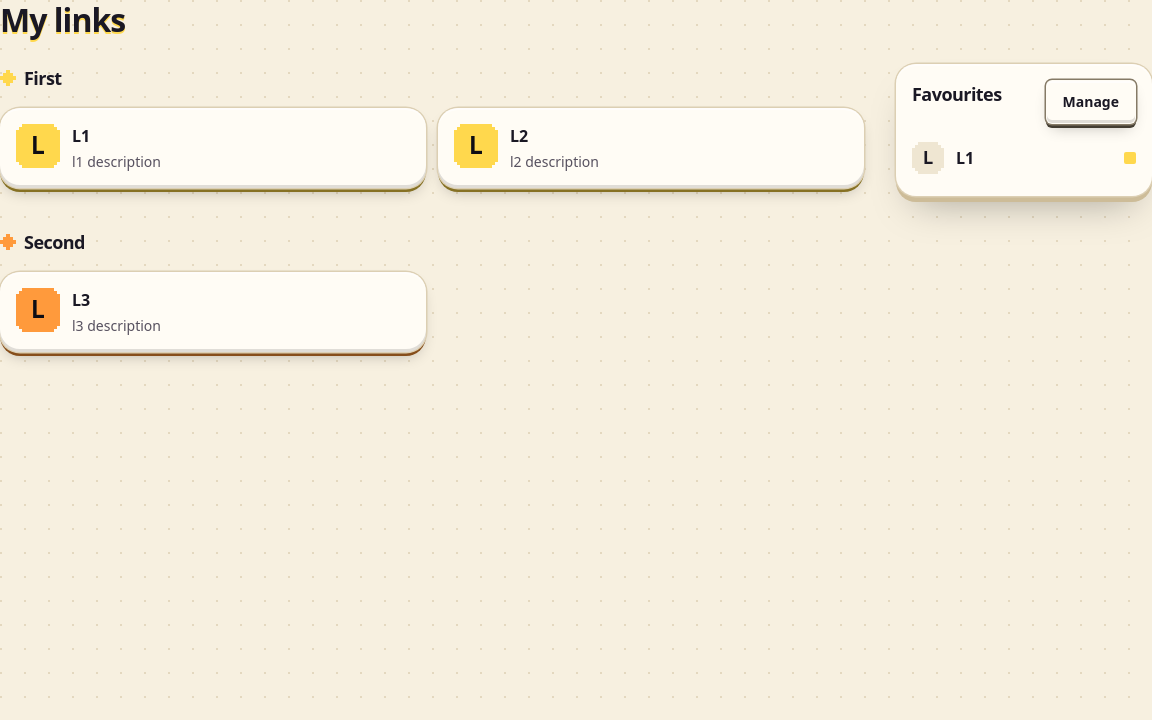
Test case: Home › manage mode › turns Manage into Done on the same element and announces
Click the button with aria-label "Manage favourites" at (1091, 102), box [1046,80,1136,124]
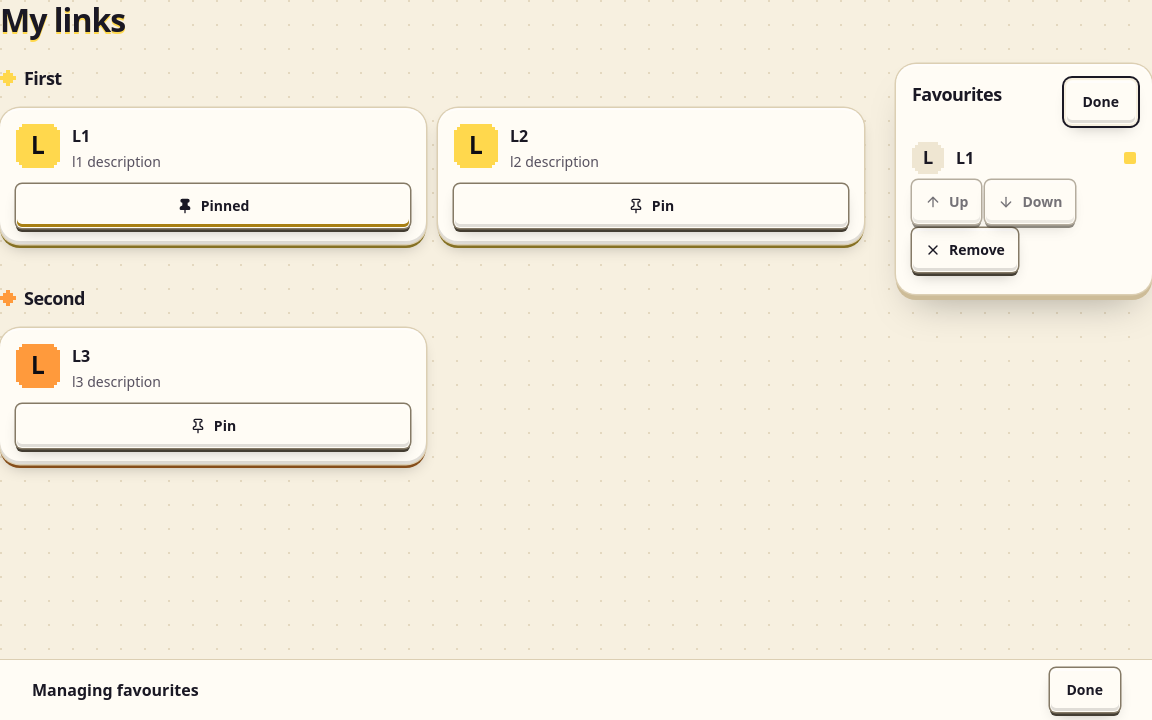
Now the button with aria-label "Done, managing favourites" reads "Done", box [1066,80,1136,124]
Now the button with aria-label "Pinned: remove L1 from favourites" is shown, box [16,184,410,228]
Now the button with aria-label "Pin L2" is shown, box [454,184,848,228]
